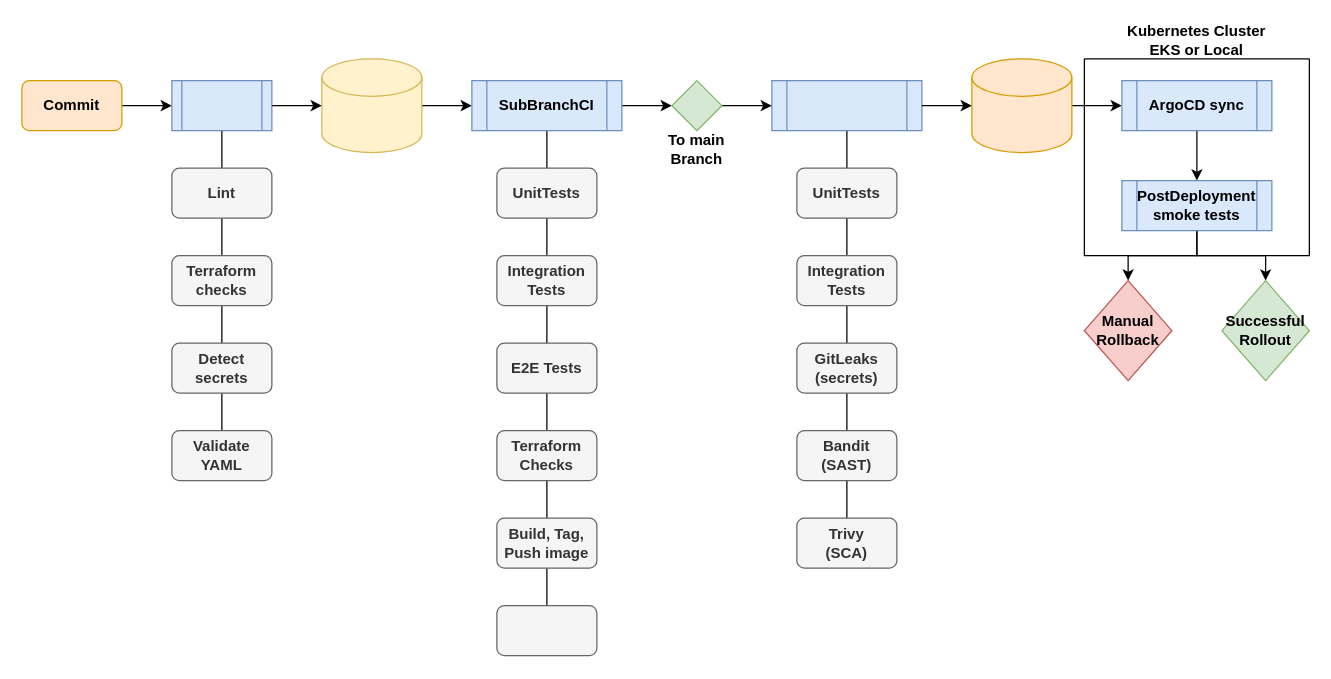
This 1331x679 diagram has some shape labels left out. The centre of each missing label's shape, as x and y in pixels:
MainBranch: point (1021, 105)
PR: point (696, 105)
PRCI-PR Gate: point (846, 105)
PreCommit: point (221, 105)
SubBranch: point (371, 105)
Update Manifests & commit back: point (546, 630)
